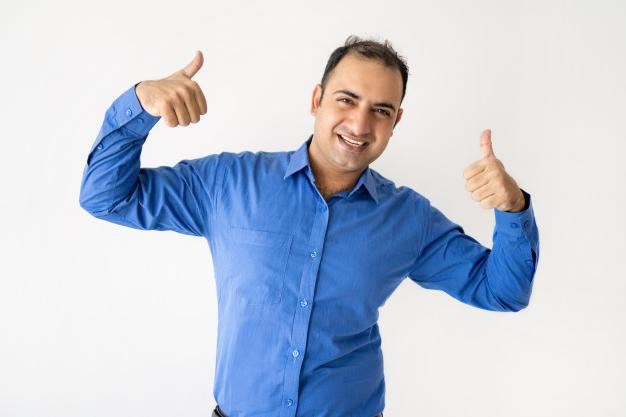thumbsup: (463, 129, 510, 210), (162, 50, 208, 127)
